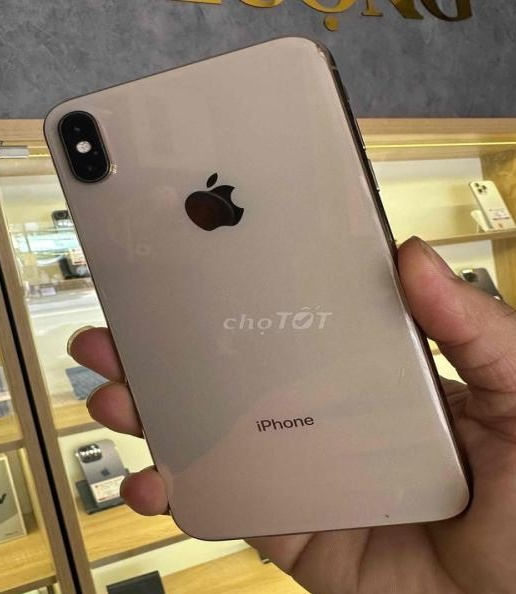physical_damage: (295, 41, 337, 65)
scratch: (375, 508, 394, 524)
